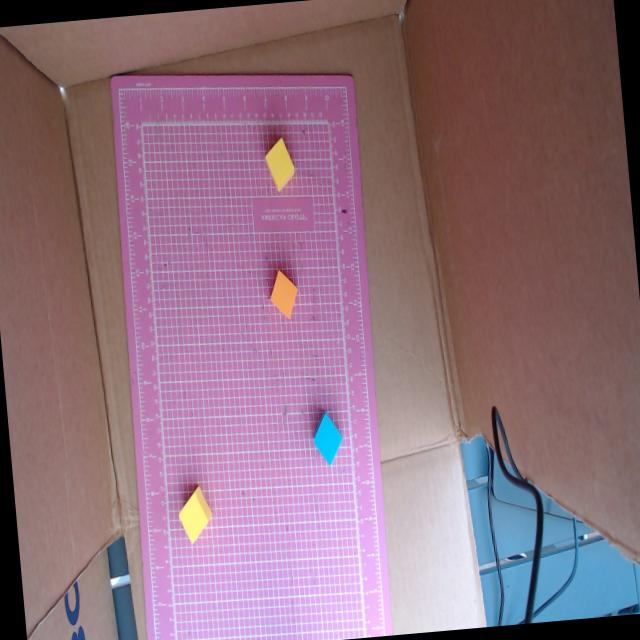bluecube: (313, 411, 342, 465)
orangecube: (270, 270, 297, 319)
yellowcube: (179, 485, 211, 543), (265, 137, 294, 192)
